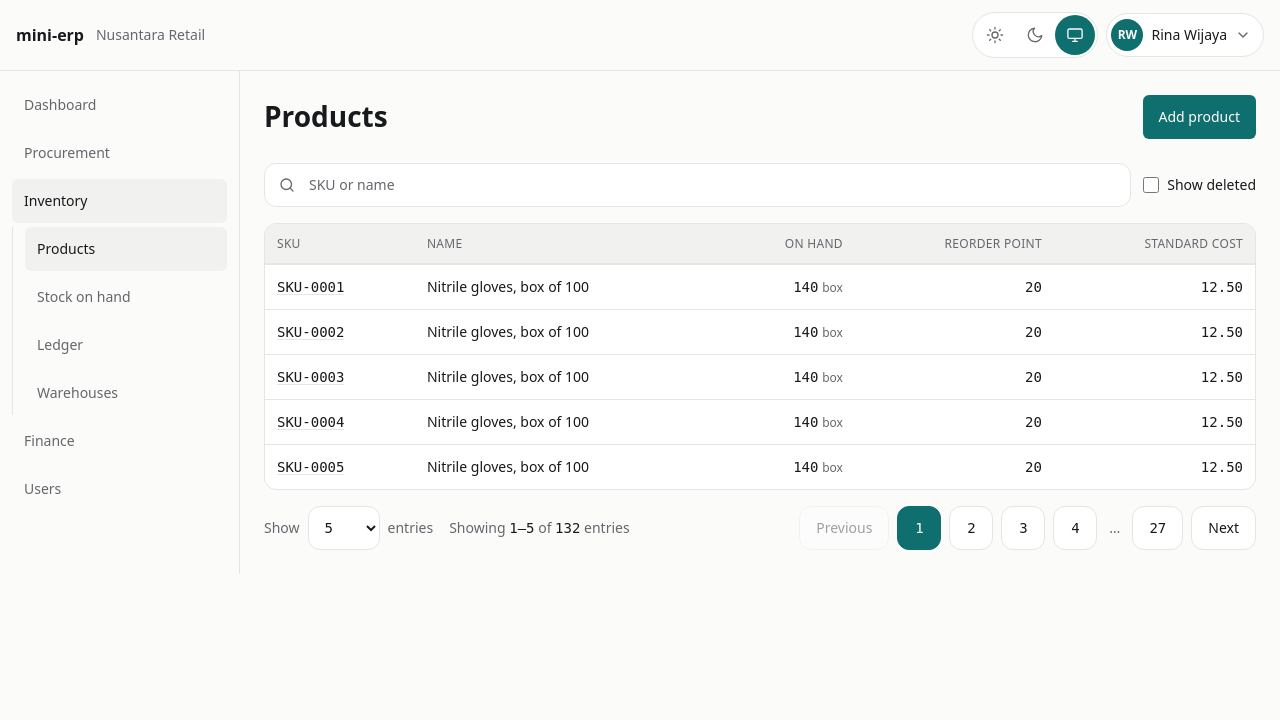
Test: FE29 — a page is reachable by number, and the reader is told where they are › names the rows on screen and the total
The width and height of the screenshot is (1280, 720).
Expected: the link "mini-erp" is shown, [16,23,84,47]
Expected: the link "SKU-0001" is shown, [277,279,344,295]
Click the button named "Page 27" at (1158, 528), box [1132,506,1183,550]
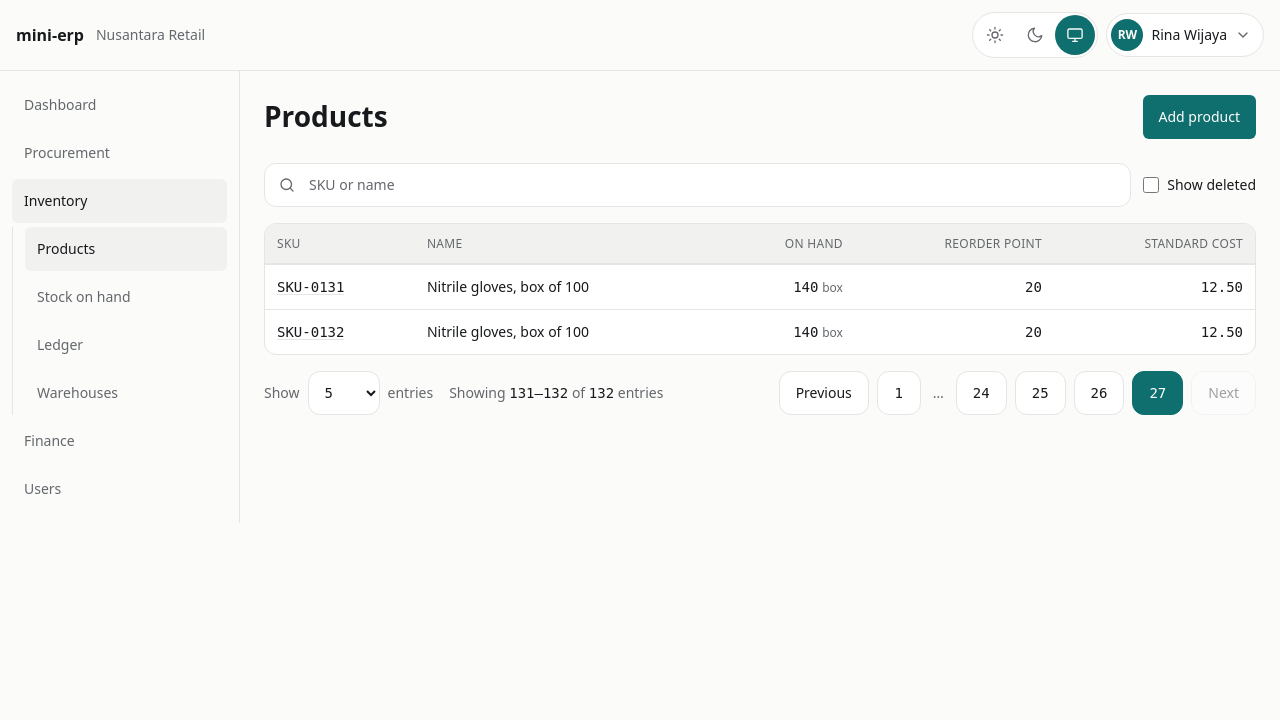
Expected: the link "SKU-0131" is shown, [277,279,344,295]
Expected: the text "Showing 131–132 of 132 entries" is shown, [449,383,663,403]
